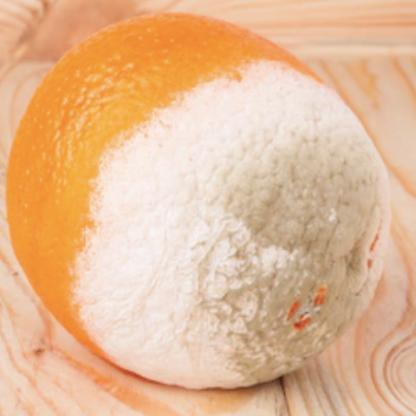rotten: (6, 15, 388, 391)
